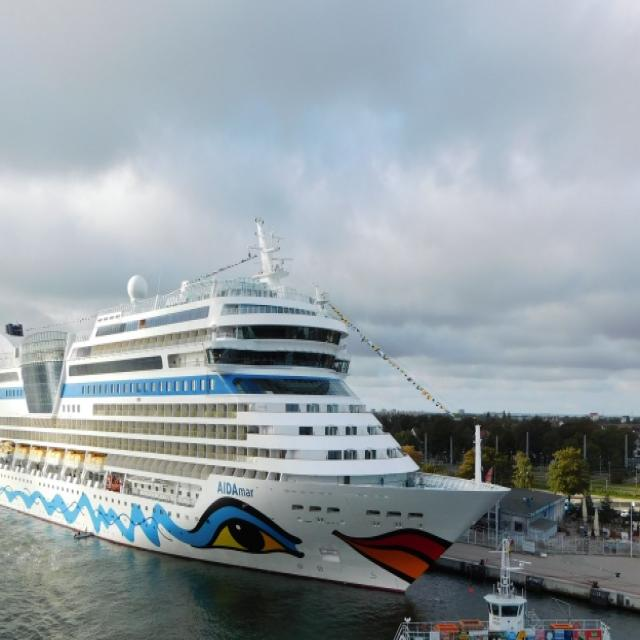cruises: (1, 224, 510, 609)
